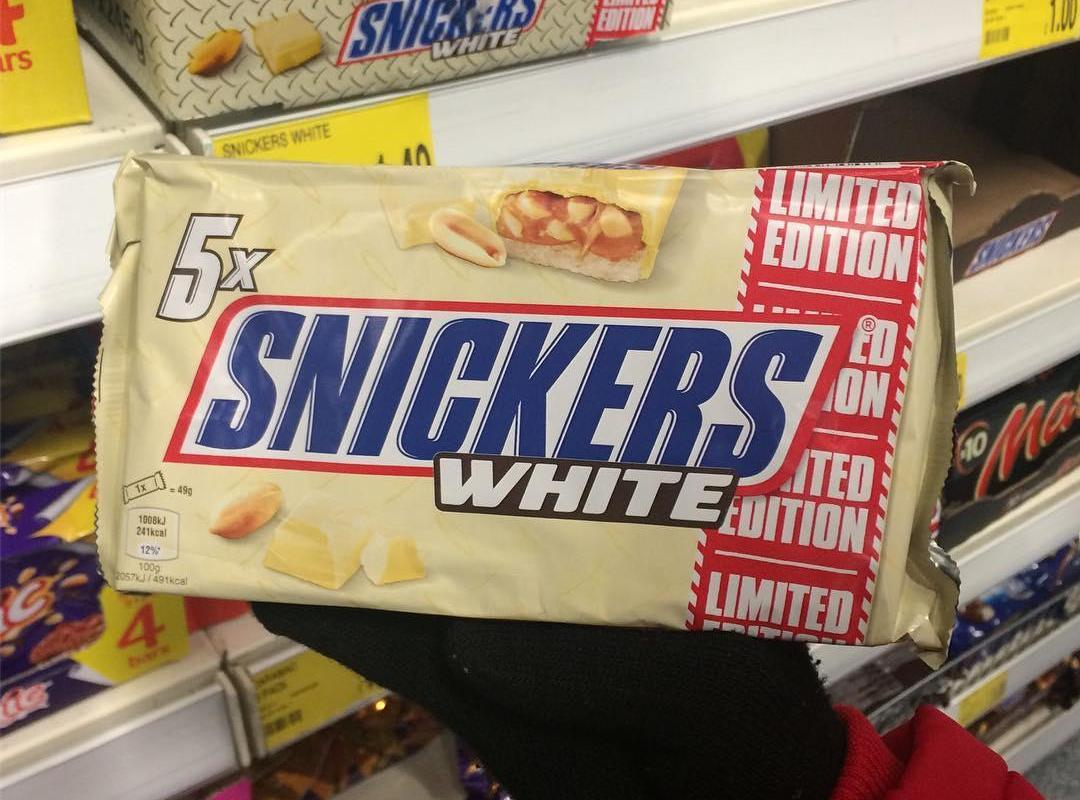snickers: (192, 304, 829, 476), (179, 322, 829, 476), (339, 0, 542, 60), (970, 211, 1056, 266)
